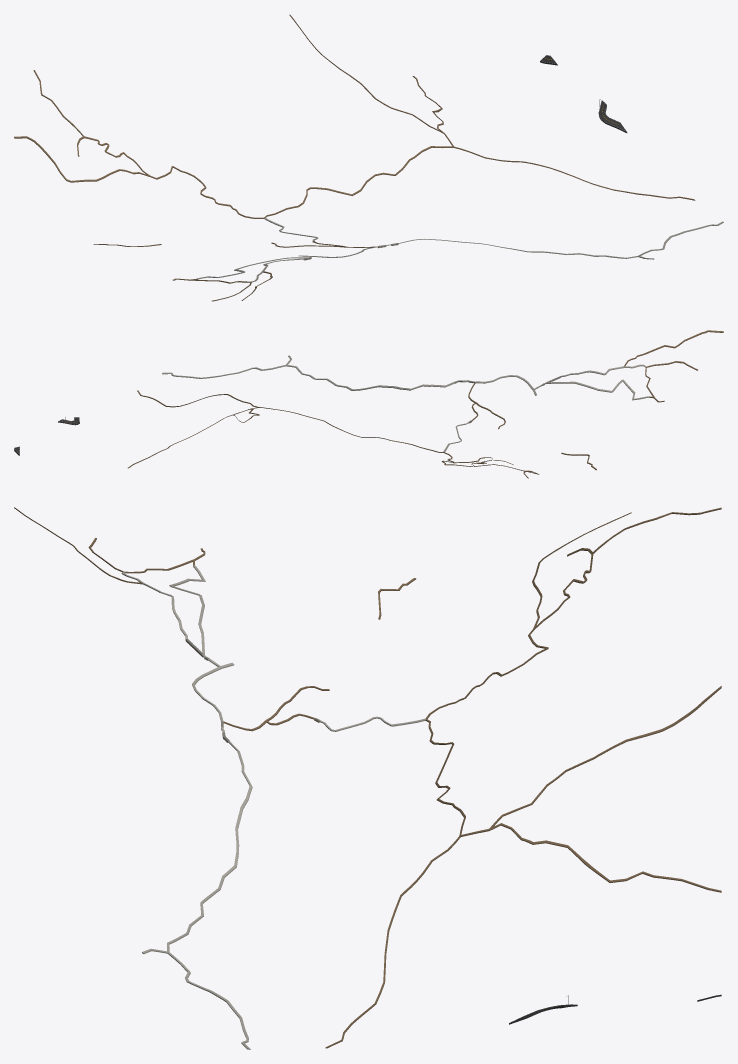
The picture shows the model from 3 angles, top to bottom: view 1: azimuth 30°, elevation 25°; view 2: azimuth 150°, elevation 25°; view 3: azimuth 270°, elevation 25°; orthographic projection. The views are drawn at different scales.
Size of the model in its own units: 588 by 148 by 470.
